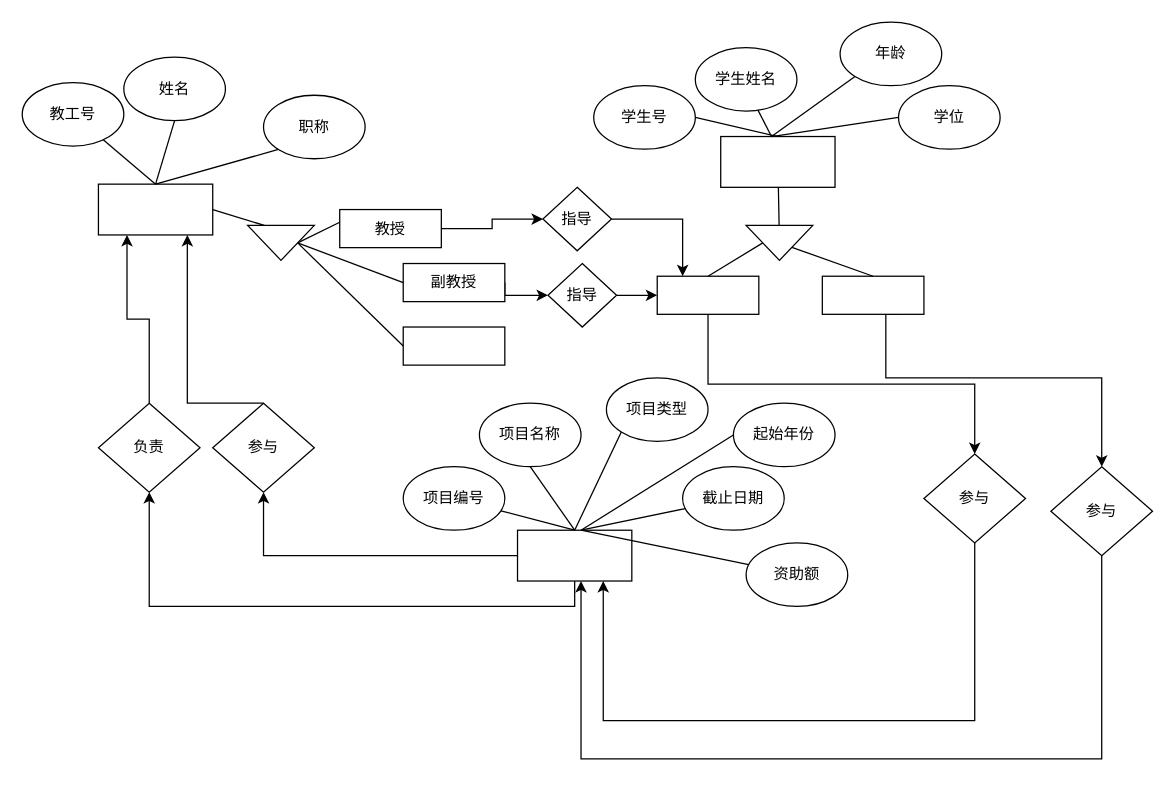
The diagram is 1175 pixels wide and 791 high, and some of its shapes have lost their labels. The centre of each missing label's shape, as x and y in pixels:
"学生" goes at point (777, 161).
"教师" goes at point (155, 209).
"本科生" goes at point (872, 294).
"研究生" goes at point (707, 294).
"讲师" goes at point (453, 345).
"项目" goes at point (574, 555).
